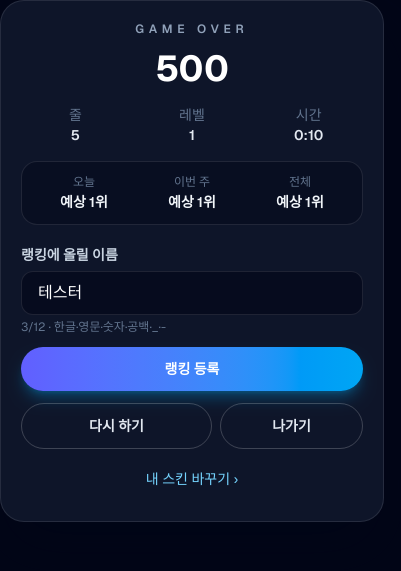
Scenario: GameOverPanel 예상 순위 요청 › 상위권도 개인 최고도 아니면 공유 버튼은 평소 문구 그대로 (games-growth B3)
Click the button "랭킹 등록".
click(192, 369)  # box x1=21 y1=347 x2=363 y2=391
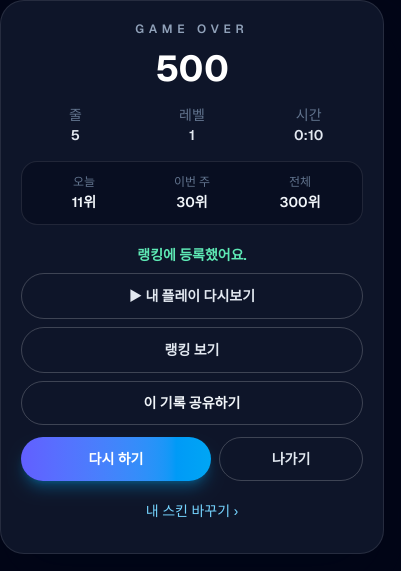
expect the button with test id "result-share" reads "이 기록 공유하기": met, box x1=21 y1=381 x2=363 y2=425
